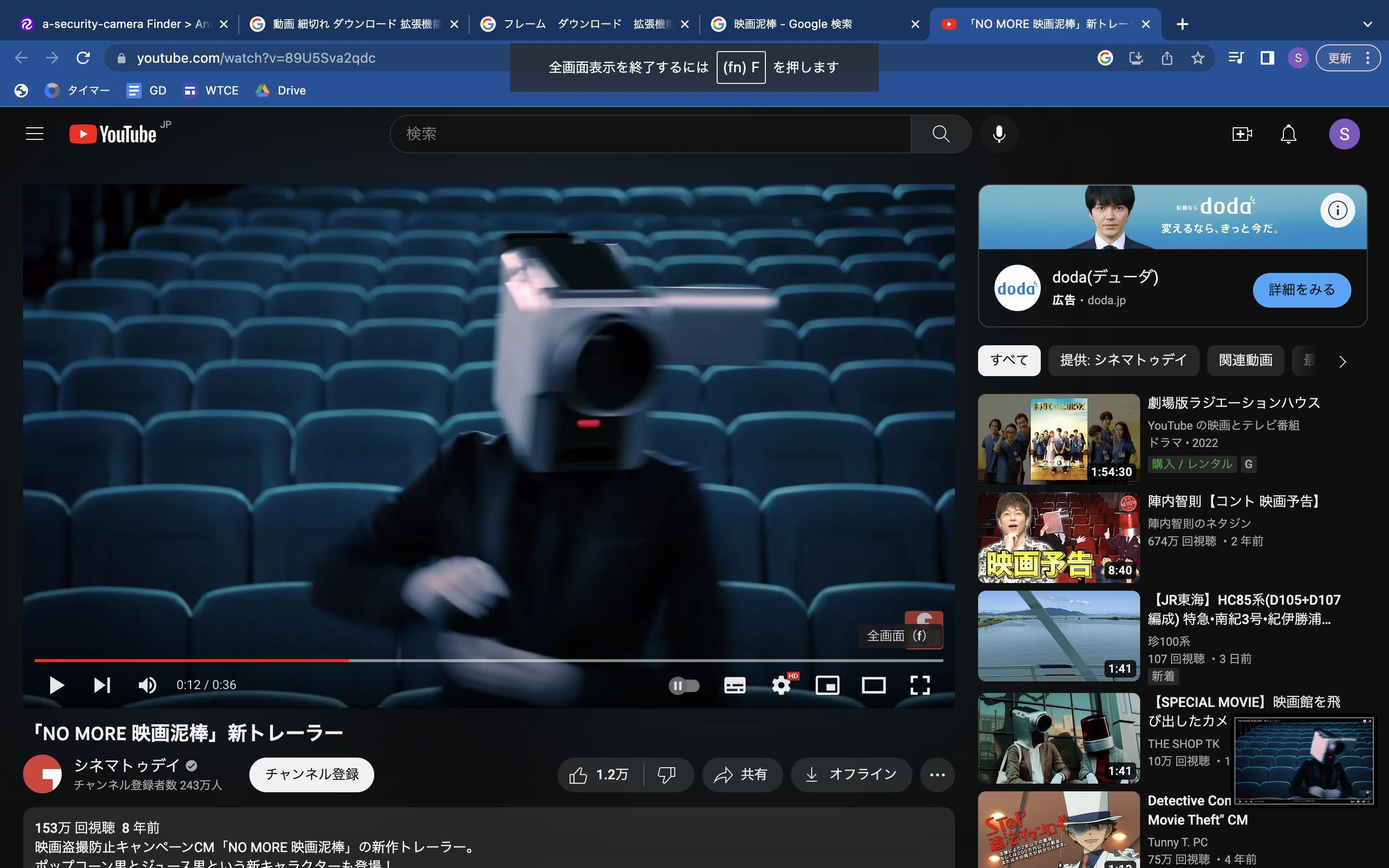no more kid: (482, 216, 796, 507)
